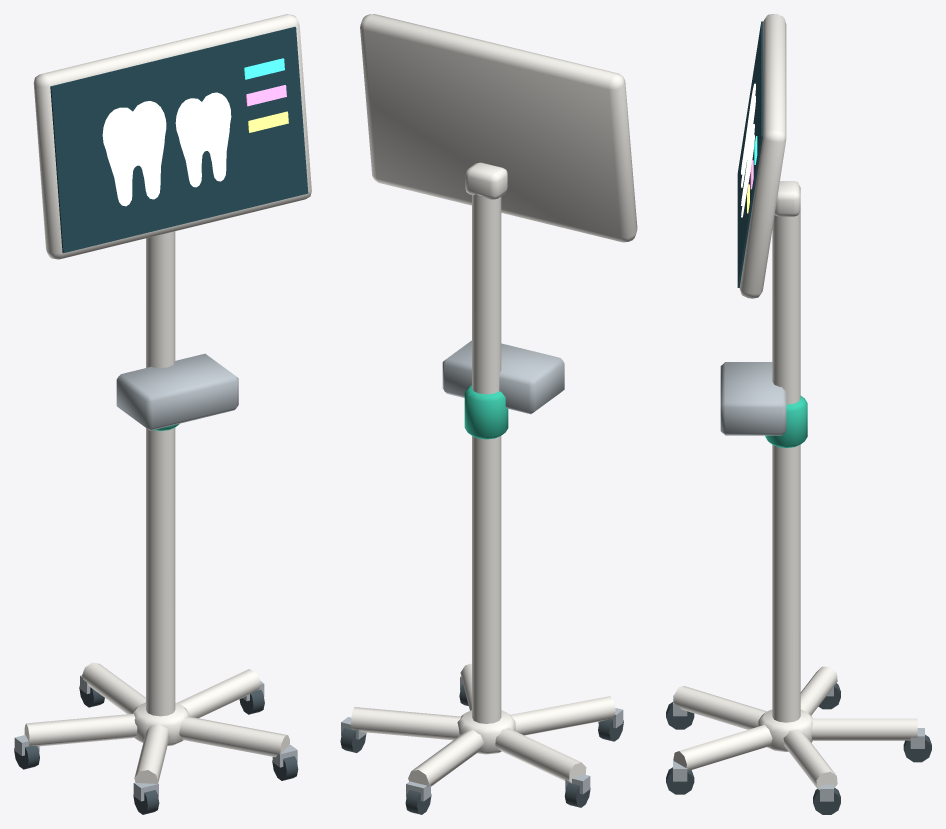
File: op_monitor.glb
The picture shows the model from 3 angles, left to right: view 1: azimuth 30°, elevation 25°; view 2: azimuth 150°, elevation 25°; view 3: azimuth 270°, elevation 25°; orthographic projection. The views are drawn at different scales.
Parts seen in each view (by area): view 1: OpMonitor; view 2: OpMonitor; view 3: OpMonitor.
Boxes of the visible parts, bbox=[...] form: OpMonitor: bbox=[14, 14, 311, 814]; OpMonitor: bbox=[340, 14, 637, 814]; OpMonitor: bbox=[666, 14, 931, 814].
Bounding box in the file's own units: 0.62 × 1.62 × 0.5665.
